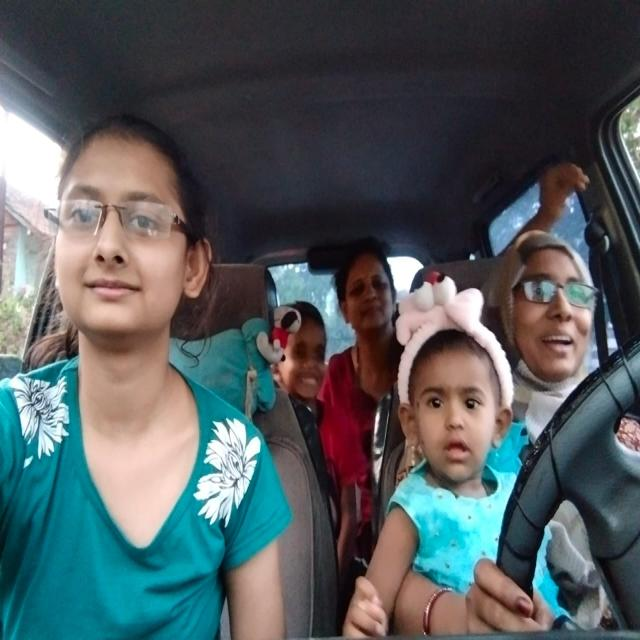child: (395, 319, 511, 493), (278, 284, 333, 409)
person: (34, 106, 214, 404), (498, 228, 601, 375), (334, 234, 410, 350)
